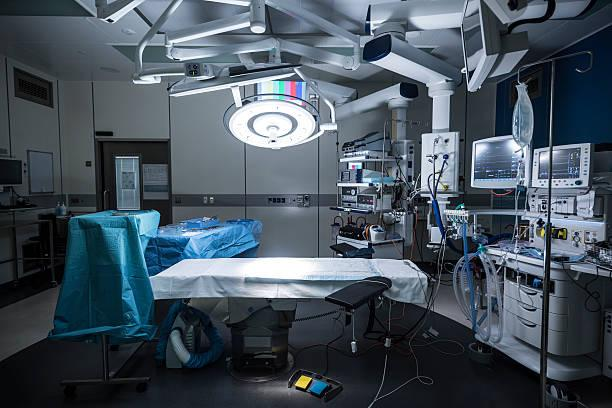Monitor: (472, 122, 528, 192), (535, 134, 593, 189)
Saline Stand: (505, 39, 607, 408)
bed: (147, 259, 440, 382)
tools_table: (58, 200, 165, 396), (134, 204, 261, 259)
